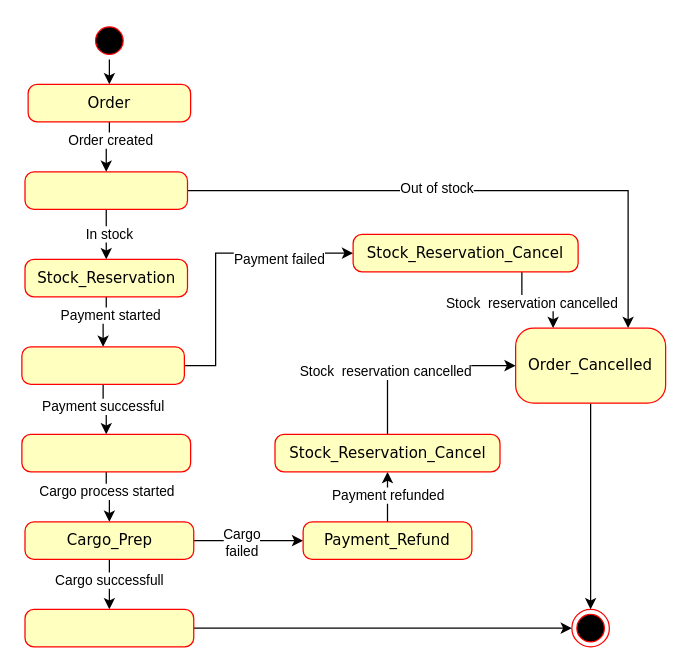
Image size: 688x669. Some labels were removed from this diagram. Here are the shapes that lost their labels. From the top down, the centre of each, then its label:
At point 106,190: "Stock_Control".
At point 102,365: "Payment".
At point 106,452: "Payment_Completed".
At point 109,627: "Order_Completed".
